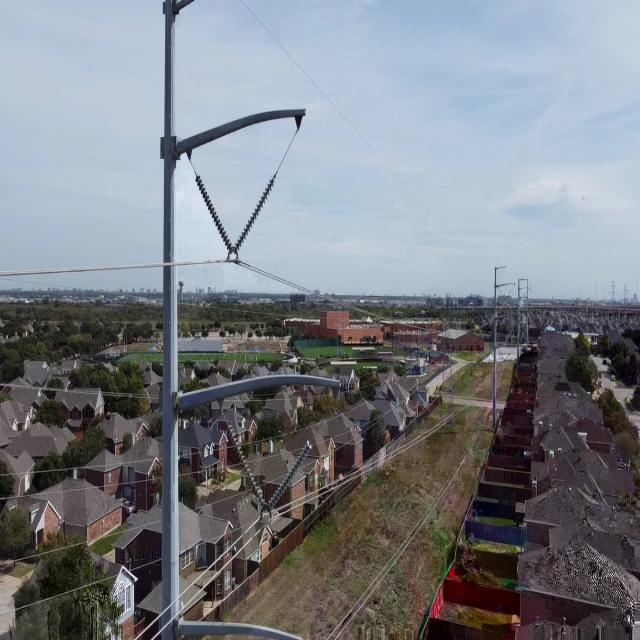正常绝缘子: (225, 159, 285, 271), (219, 409, 274, 522), (260, 432, 319, 525), (188, 161, 240, 263)
